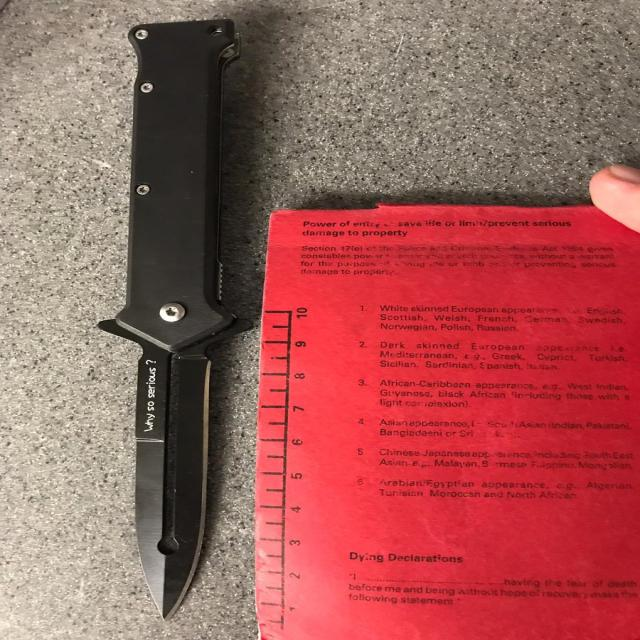Sharp-Object: (106, 19, 250, 621)
